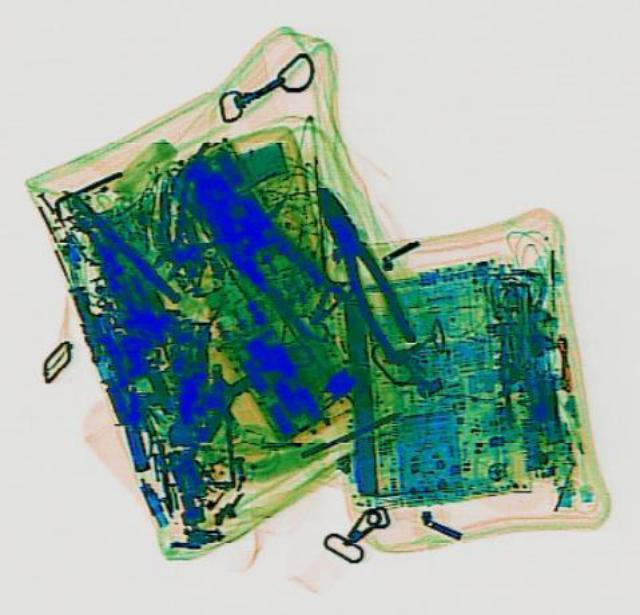Pliers: (163, 147, 347, 336), (299, 179, 421, 364)
